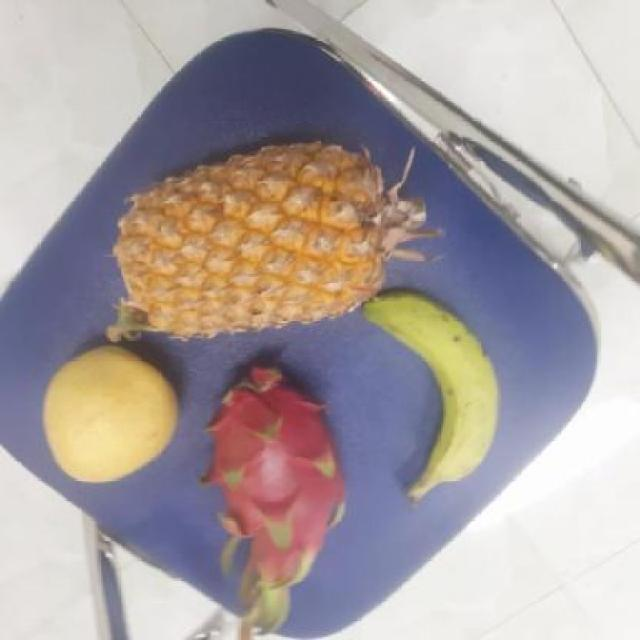banana: (365, 295, 507, 507)
dragon fruit: (194, 372, 348, 526)
guava: (42, 348, 186, 483)
pineapple: (124, 142, 419, 330)
